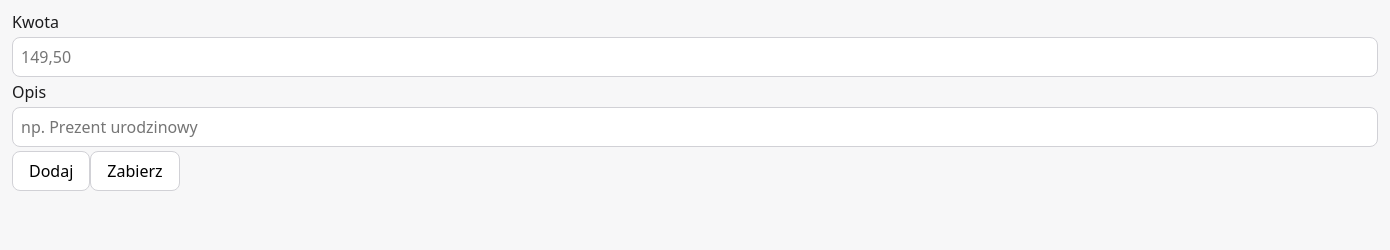
Test: EntryForm › shows a Polish error for an invalid amount and does not submit
In the field labelled "Kwota": (695, 57) 12,37 -> 1378,77, type "abc"
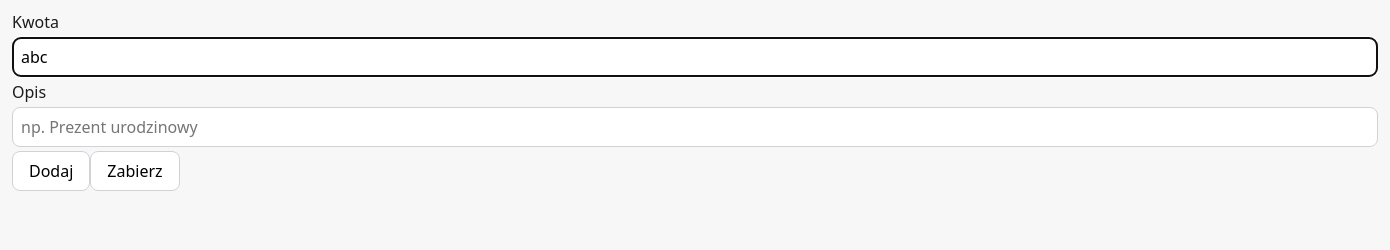
Click the button "Dodaj": (51, 171) 12,151 -> 90,191
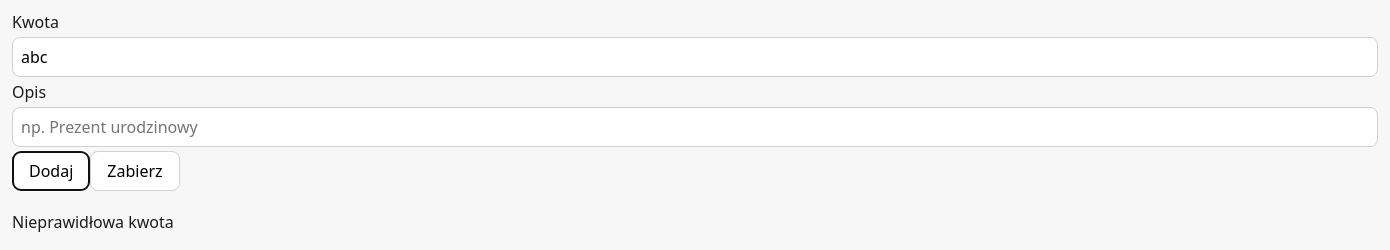
Expected: the text "Nieprawidłowa kwota" is shown, 12,211 -> 174,233
